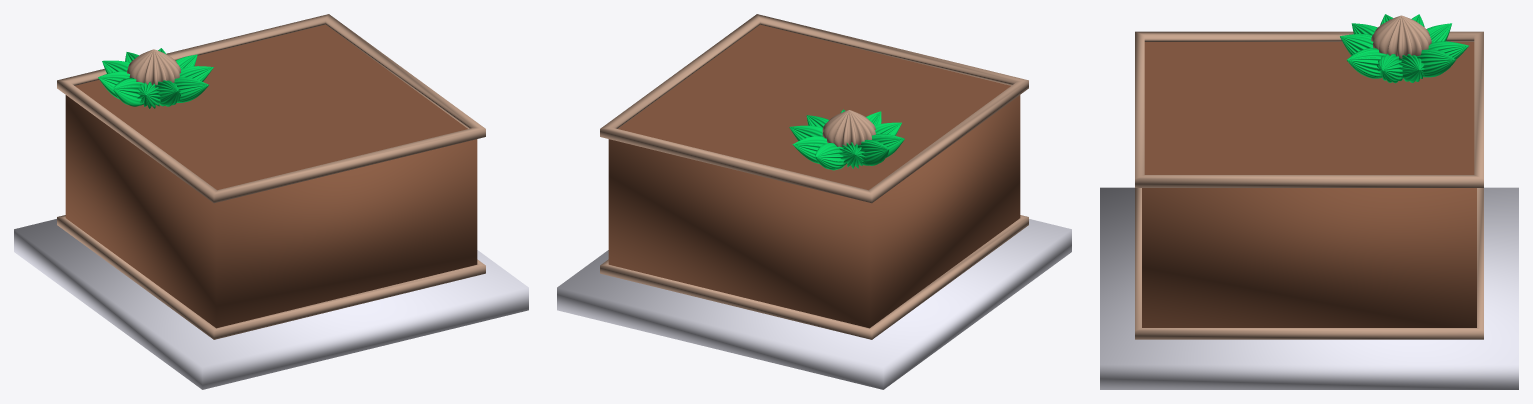
Rendered from square_chocolate_style3.glb.
The picture shows the model from 3 angles, left to right: view 1: azimuth 30°, elevation 25°; view 2: azimuth 150°, elevation 25°; view 3: azimuth 270°, elevation 25°; orthographic projection. The views are drawn at different scales.
Parts seen in each view (by area): view 1: CakeBase, CakeTopCircle, IcingStand, IcingRing, IcingRing.001, leaf, design1; view 2: CakeBase, CakeTopCircle, IcingStand, IcingRing, IcingRing.001, leaf, design1; view 3: CakeBase, CakeTopCircle, IcingStand, IcingRing, IcingRing.001, leaf, design1.
Part boxes in pixels (bbox=[...]): CakeBase: bbox=[65, 95, 477, 328]; CakeTopCircle: bbox=[75, 24, 467, 190]; IcingStand: bbox=[14, 219, 528, 389]; IcingRing: bbox=[57, 14, 485, 203]; IcingRing.001: bbox=[57, 215, 485, 339]; leaf: bbox=[98, 48, 213, 108]; design1: bbox=[127, 49, 180, 87]; CakeBase: bbox=[608, 95, 1020, 328]; CakeTopCircle: bbox=[618, 24, 1010, 190]; IcingStand: bbox=[557, 219, 1071, 389]; IcingRing: bbox=[600, 14, 1028, 203]; IcingRing.001: bbox=[600, 215, 1028, 339]; leaf: bbox=[789, 109, 904, 170]; design1: bbox=[822, 110, 875, 147]; CakeBase: bbox=[1142, 188, 1476, 327]; CakeTopCircle: bbox=[1144, 42, 1474, 174]; IcingStand: bbox=[1100, 187, 1518, 389]; IcingRing: bbox=[1135, 31, 1483, 187]; IcingRing.001: bbox=[1135, 188, 1483, 339]; leaf: bbox=[1340, 14, 1468, 83]; design1: bbox=[1371, 15, 1431, 58].
Size of the model in its own units: 3 by 1.93 by 3.
